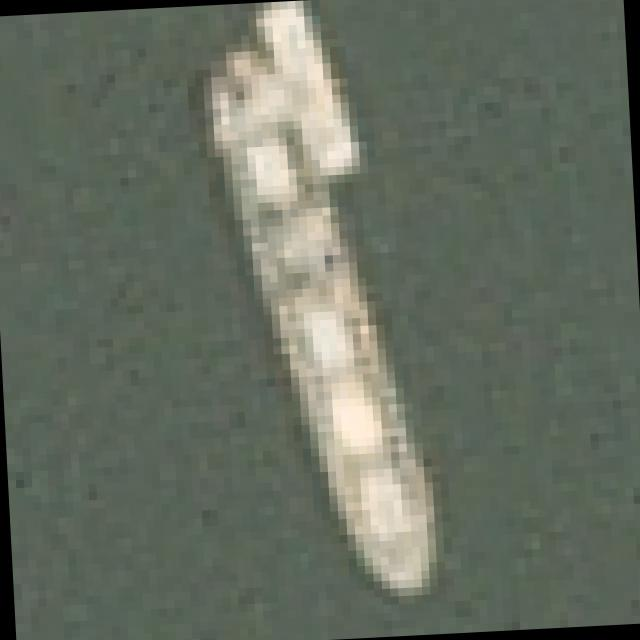ship: (154, 0, 548, 637)
